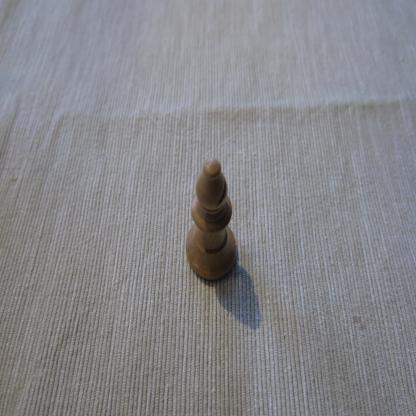white-knight: (185, 156, 238, 282)
